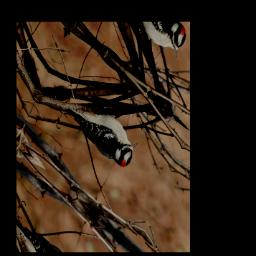Woodpecker: (60, 79, 141, 175)
